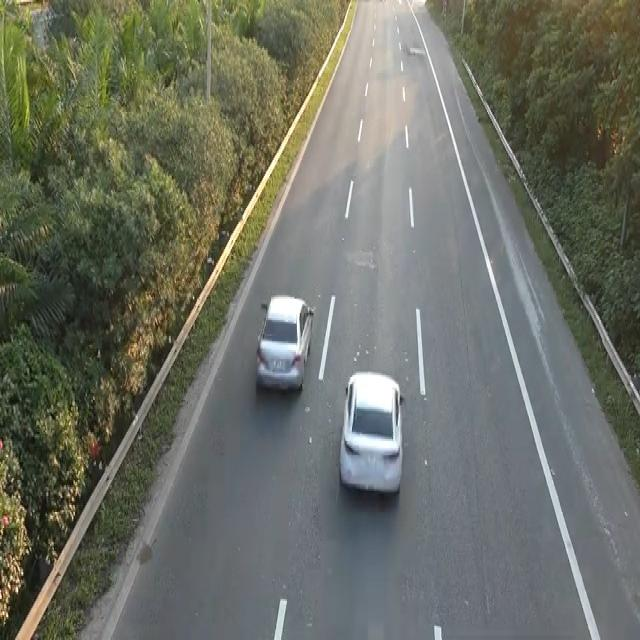bus: (337, 366, 405, 496), (254, 290, 315, 394)
